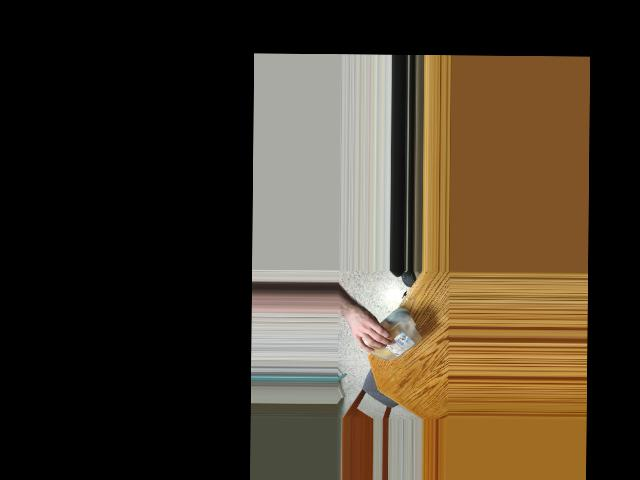cheese: (356, 310, 423, 363)
